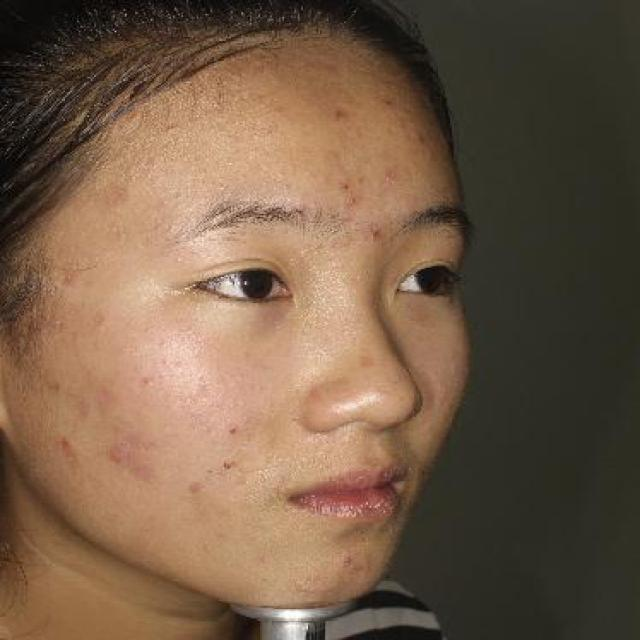dark spot: (185, 477, 205, 495)
